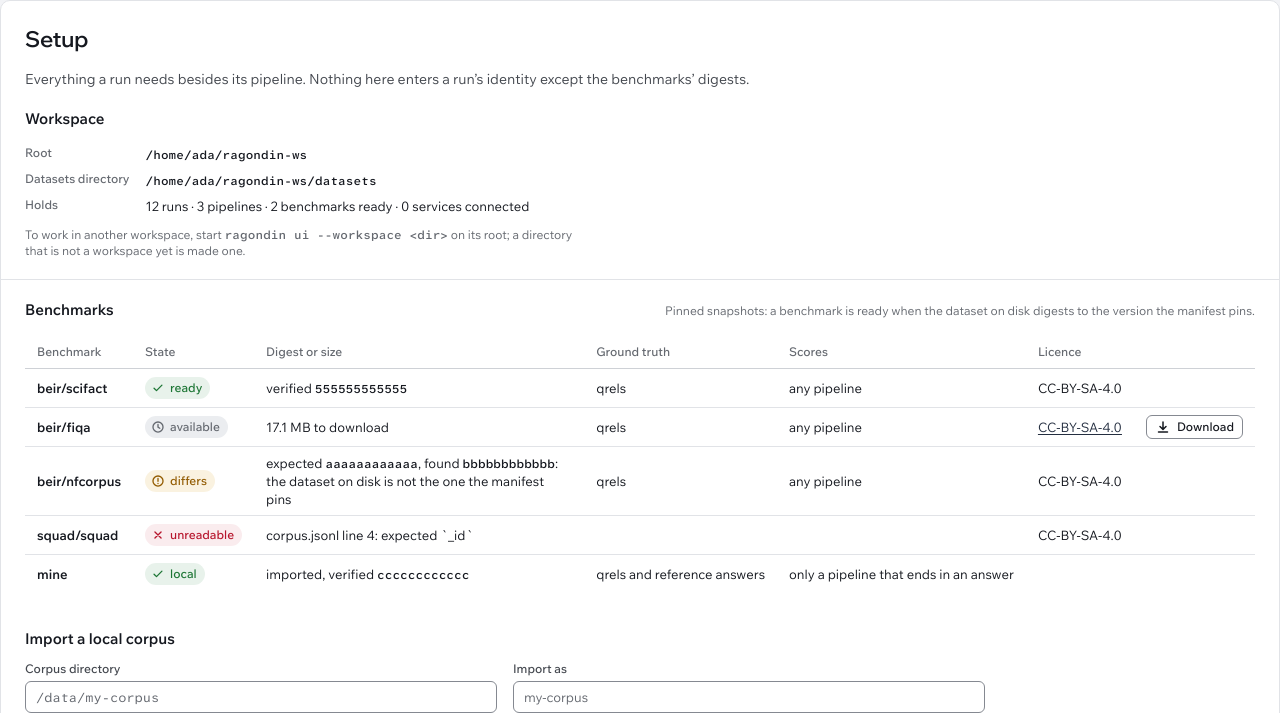
Test case: the download › a refused submission is the API’s detail and hint, announced, with Retry
Expected: the text "beir/fiqa" is shown, [37,419,91,435]
Click the button "Download": x=1194, y=427 [1146,415,1243,439]
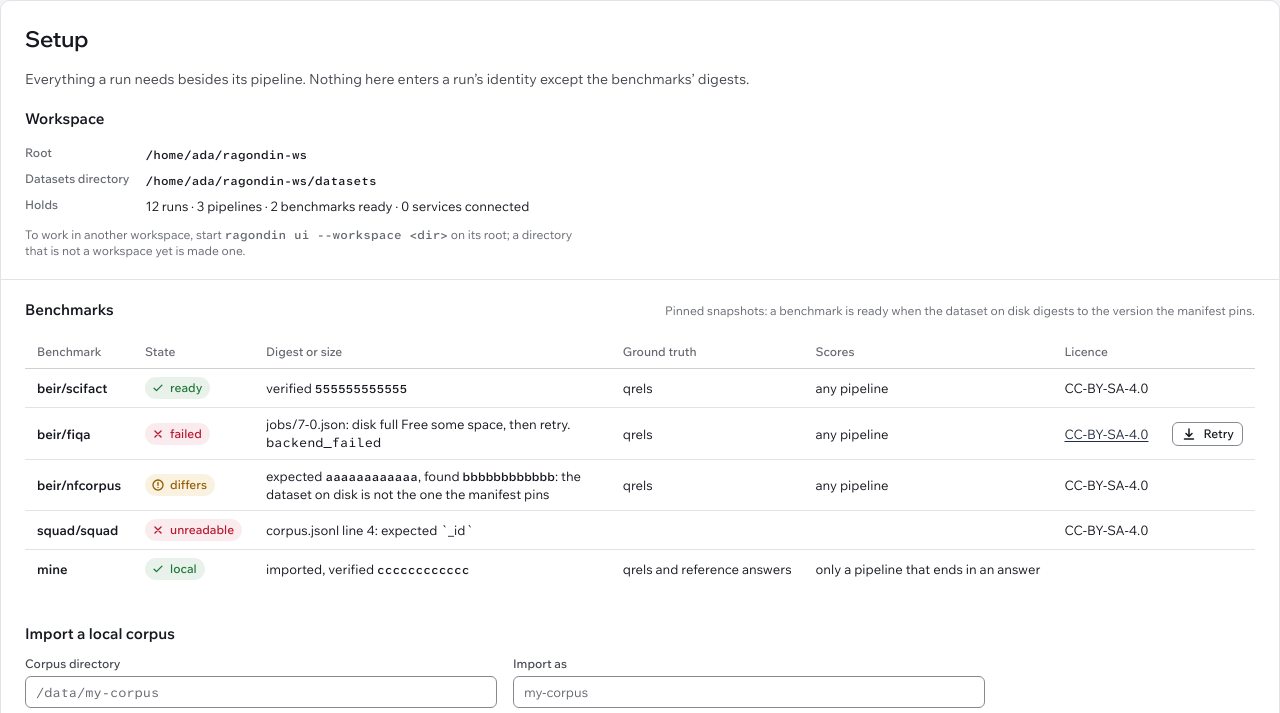
Expected: the message "jobs/7-0.json: disk full Free some space, then retry. backend_failed" is shown, [266,416,570,450]
Expected: the button "Retry" is shown, [1172,422,1243,446]
